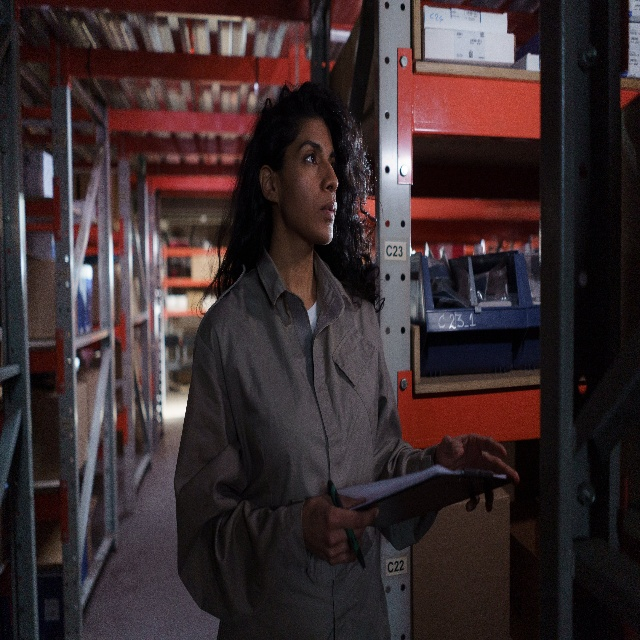Sin_guantes: (436, 432, 520, 512), (301, 492, 380, 566)
